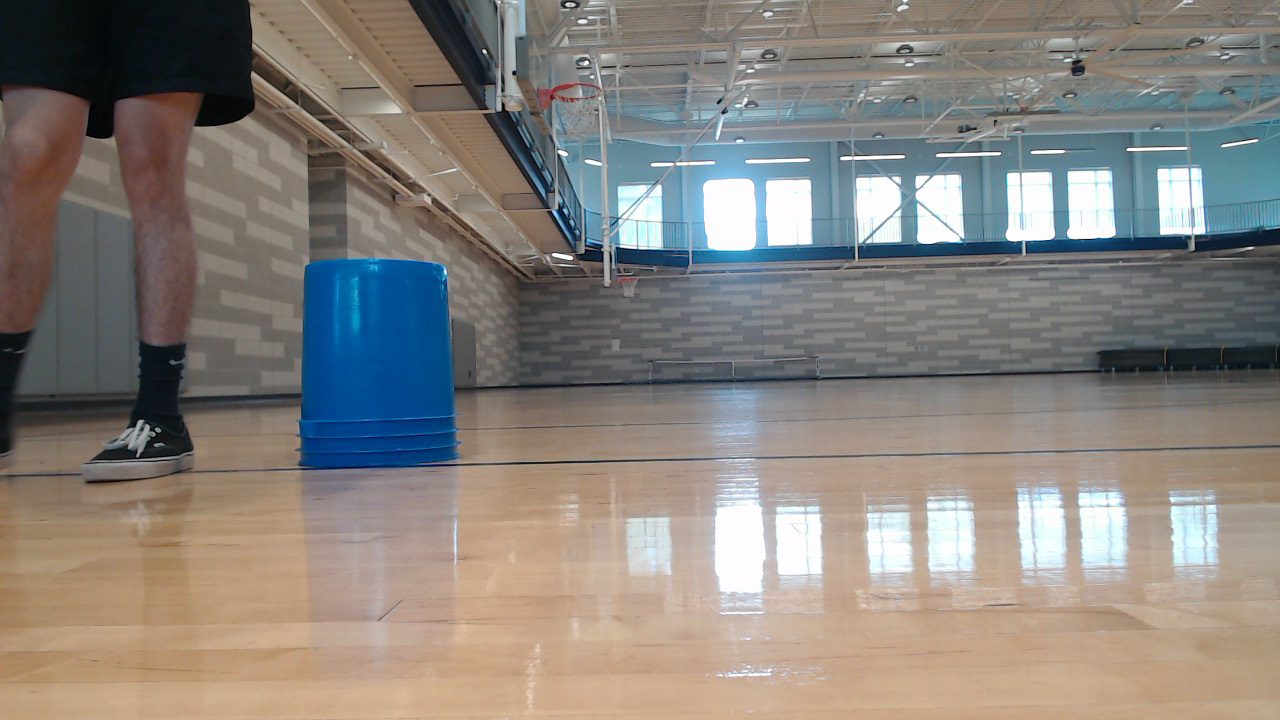blue_bucket: (302, 264, 467, 472)
